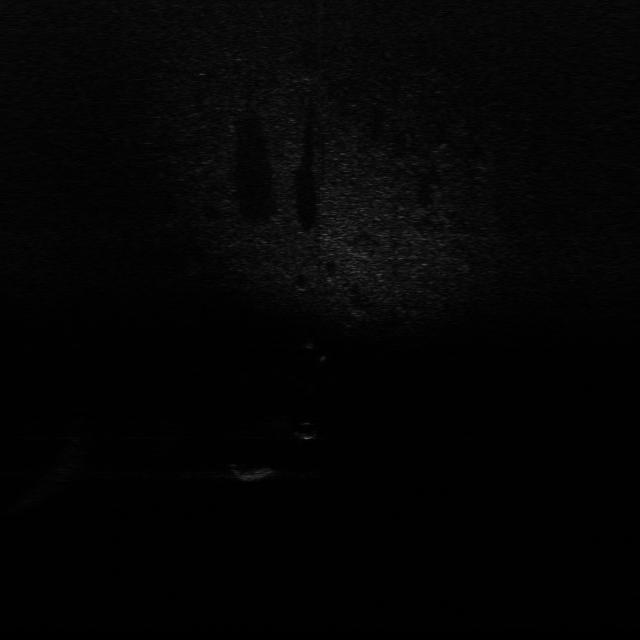ball: (293, 417, 322, 442)
circle cage: (227, 456, 281, 484)
human body: (300, 331, 330, 367)
